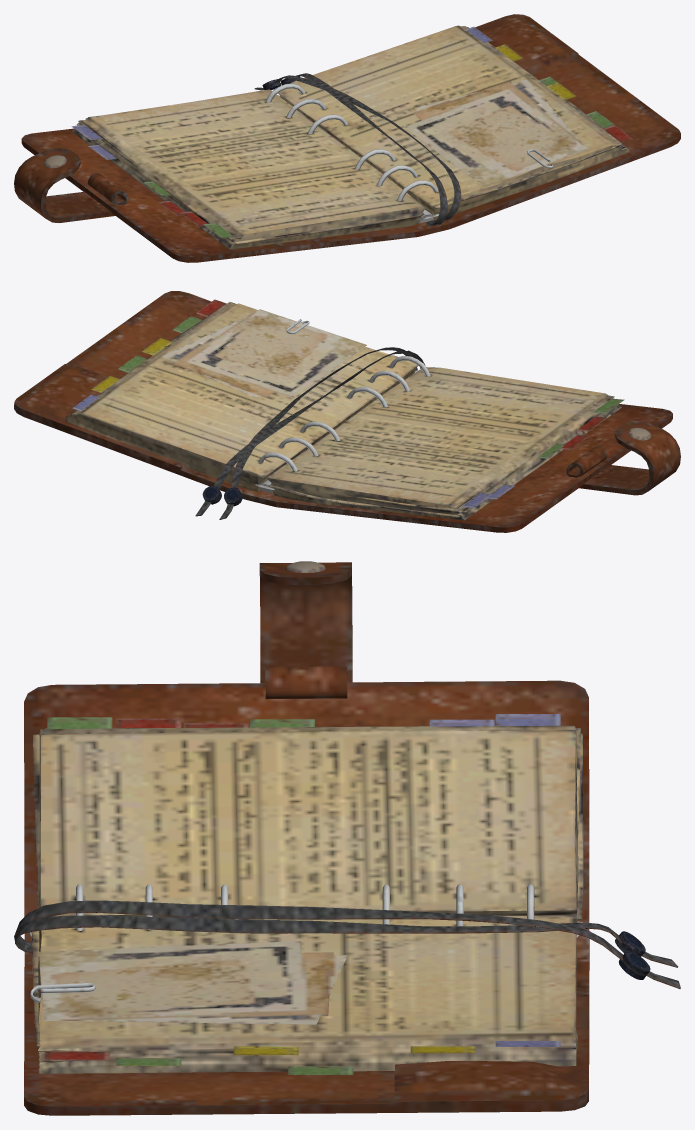
Rendered from 091_diary01b_00.fbx.
The picture shows the model from 3 angles, top to bottom: view 1: azimuth 30°, elevation 25°; view 2: azimuth 150°, elevation 25°; view 3: azimuth 270°, elevation 25°; orthographic projection. The views are drawn at different scales.
Visible parts, largest first — view 1: LOD_1_Group_4_Sub_1__sm36_091_Diary01B_A_Mat__Env_Default, LOD_1_Group_6_Sub_1__sm36_091_Diary01B_A_Mat__Env_Default, LOD_1_Group_2_Sub_1__sm36_091_Diary01B_A_Mat__Env_Default, LOD_1_Group_7_Sub_1__sm36_091_Diary01B_A_Mat__Env_Default, LOD_1_Group_1_Sub_1__sm36_091_Diary01B_A_Mat__Env_Default, LOD_1_Group_3_Sub_1__sm36_091_Diary01B_A_Mat__Env_Default, LOD_1_Group_5_Sub_1__sm36_091_Diary01B_A_Mat__Env_Default; view 2: LOD_1_Group_4_Sub_1__sm36_091_Diary01B_A_Mat__Env_Default, LOD_1_Group_6_Sub_1__sm36_091_Diary01B_A_Mat__Env_Default, LOD_1_Group_2_Sub_1__sm36_091_Diary01B_A_Mat__Env_Default, LOD_1_Group_7_Sub_1__sm36_091_Diary01B_A_Mat__Env_Default, LOD_1_Group_3_Sub_1__sm36_091_Diary01B_A_Mat__Env_Default, LOD_1_Group_1_Sub_1__sm36_091_Diary01B_A_Mat__Env_Default, LOD_1_Group_5_Sub_1__sm36_091_Diary01B_A_Mat__Env_Default; view 3: LOD_1_Group_4_Sub_1__sm36_091_Diary01B_A_Mat__Env_Default, LOD_1_Group_6_Sub_1__sm36_091_Diary01B_A_Mat__Env_Default, LOD_1_Group_2_Sub_1__sm36_091_Diary01B_A_Mat__Env_Default, LOD_1_Group_3_Sub_1__sm36_091_Diary01B_A_Mat__Env_Default, LOD_1_Group_7_Sub_1__sm36_091_Diary01B_A_Mat__Env_Default, LOD_1_Group_1_Sub_1__sm36_091_Diary01B_A_Mat__Env_Default, LOD_1_Group_5_Sub_1__sm36_091_Diary01B_A_Mat__Env_Default.
Part boxes in pixels (x1,y1,x2,y2): LOD_1_Group_4_Sub_1__sm36_091_Diary01B_A_Mat__Env_Default: [72, 25, 629, 249]; LOD_1_Group_6_Sub_1__sm36_091_Diary01B_A_Mat__Env_Default: [21, 14, 680, 262]; LOD_1_Group_2_Sub_1__sm36_091_Diary01B_A_Mat__Env_Default: [404, 79, 588, 187]; LOD_1_Group_7_Sub_1__sm36_091_Diary01B_A_Mat__Env_Default: [14, 148, 128, 222]; LOD_1_Group_1_Sub_1__sm36_091_Diary01B_A_Mat__Env_Default: [71, 26, 632, 238]; LOD_1_Group_3_Sub_1__sm36_091_Diary01B_A_Mat__Env_Default: [254, 73, 461, 225]; LOD_1_Group_5_Sub_1__sm36_091_Diary01B_A_Mat__Env_Default: [266, 83, 439, 223]; LOD_1_Group_4_Sub_1__sm36_091_Diary01B_A_Mat__Env_Default: [65, 302, 621, 520]; LOD_1_Group_6_Sub_1__sm36_091_Diary01B_A_Mat__Env_Default: [14, 291, 672, 532]; LOD_1_Group_2_Sub_1__sm36_091_Diary01B_A_Mat__Env_Default: [162, 309, 366, 398]; LOD_1_Group_7_Sub_1__sm36_091_Diary01B_A_Mat__Env_Default: [566, 420, 680, 495]; LOD_1_Group_3_Sub_1__sm36_091_Diary01B_A_Mat__Env_Default: [195, 347, 425, 519]; LOD_1_Group_1_Sub_1__sm36_091_Diary01B_A_Mat__Env_Default: [72, 299, 624, 507]; LOD_1_Group_5_Sub_1__sm36_091_Diary01B_A_Mat__Env_Default: [255, 356, 430, 493]; LOD_1_Group_4_Sub_1__sm36_091_Diary01B_A_Mat__Env_Default: [31, 725, 583, 1073]; LOD_1_Group_6_Sub_1__sm36_091_Diary01B_A_Mat__Env_Default: [24, 680, 589, 1115]; LOD_1_Group_2_Sub_1__sm36_091_Diary01B_A_Mat__Env_Default: [39, 941, 347, 1024]; LOD_1_Group_3_Sub_1__sm36_091_Diary01B_A_Mat__Env_Default: [14, 900, 680, 988]; LOD_1_Group_7_Sub_1__sm36_091_Diary01B_A_Mat__Env_Default: [259, 561, 352, 699]; LOD_1_Group_1_Sub_1__sm36_091_Diary01B_A_Mat__Env_Default: [44, 714, 560, 1074]; LOD_1_Group_5_Sub_1__sm36_091_Diary01B_A_Mat__Env_Default: [29, 884, 582, 937].
Bounding box in the file's own units: 0.7063 × 0.1024 × 0.4141.
